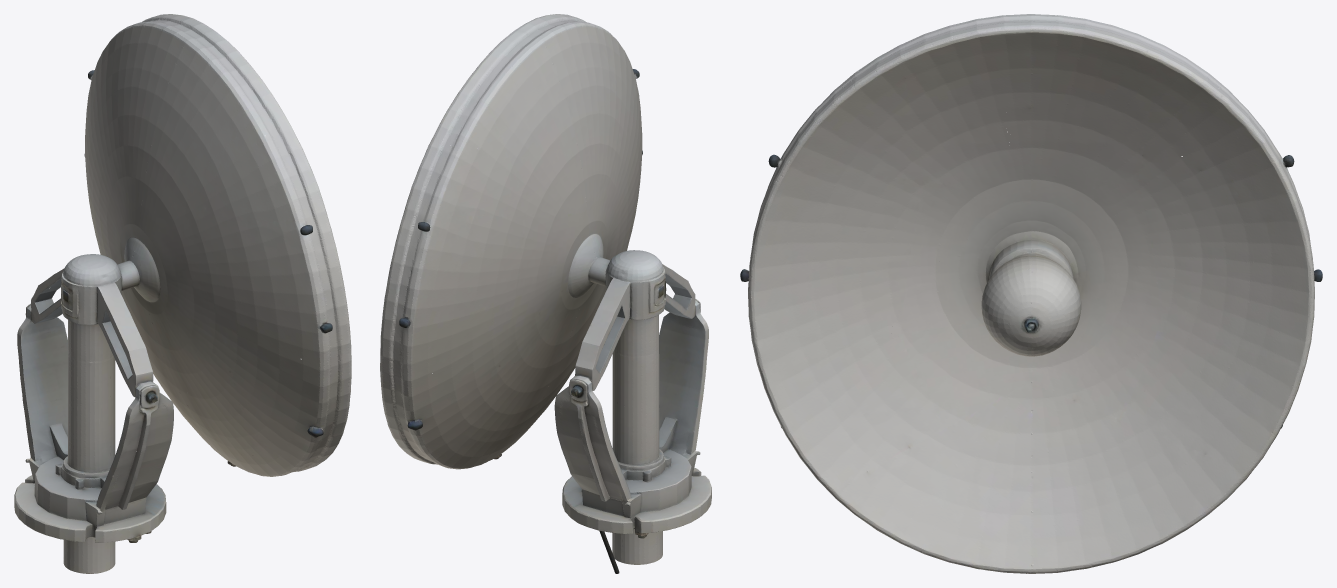
File: antenaajustada-v2.glb
The picture shows the model from 3 angles, left to right: view 1: azimuth 30°, elevation 25°; view 2: azimuth 150°, elevation 25°; view 3: azimuth 270°, elevation 25°; orthographic projection. The views are drawn at different scales.
Parts seen in each view (by area): view 1: tripo_node_296cc375-5242-405e-9127-62baac88a4f2; view 2: tripo_node_296cc375-5242-405e-9127-62baac88a4f2; view 3: tripo_node_296cc375-5242-405e-9127-62baac88a4f2, Luz_Alerta.001.
Part boxes in pixels (left/top/right/bottom): tripo_node_296cc375-5242-405e-9127-62baac88a4f2: left=14, top=14, right=351, bottom=573; tripo_node_296cc375-5242-405e-9127-62baac88a4f2: left=380, top=14, right=711, bottom=573; tripo_node_296cc375-5242-405e-9127-62baac88a4f2: left=740, top=14, right=1322, bottom=573; Luz_Alerta.001: left=889, top=108, right=1081, bottom=356.
Size of the model in its own units: 0.5087 by 0.9989 by 0.8622.
Materials: 2 (2 with a texture image).
